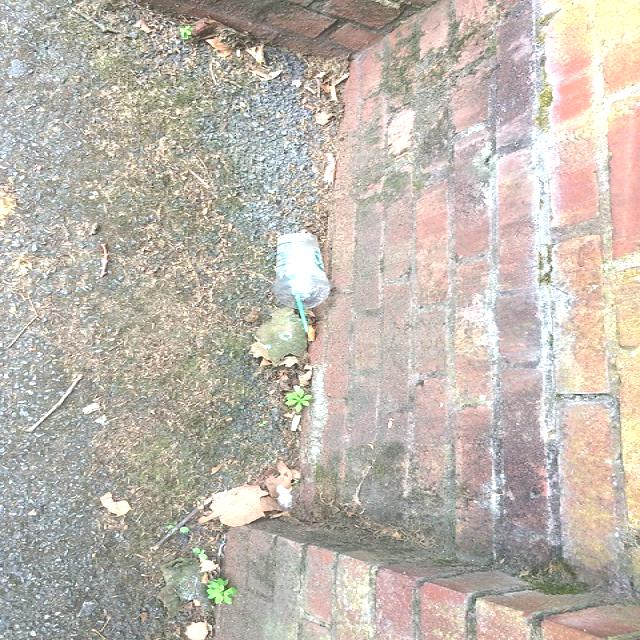Recycle: (280, 224, 342, 311)
